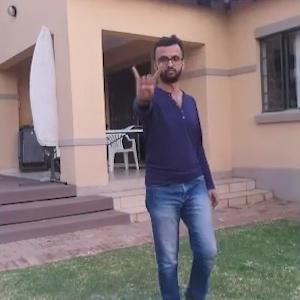takeoff-hand: (128, 53, 164, 109)
